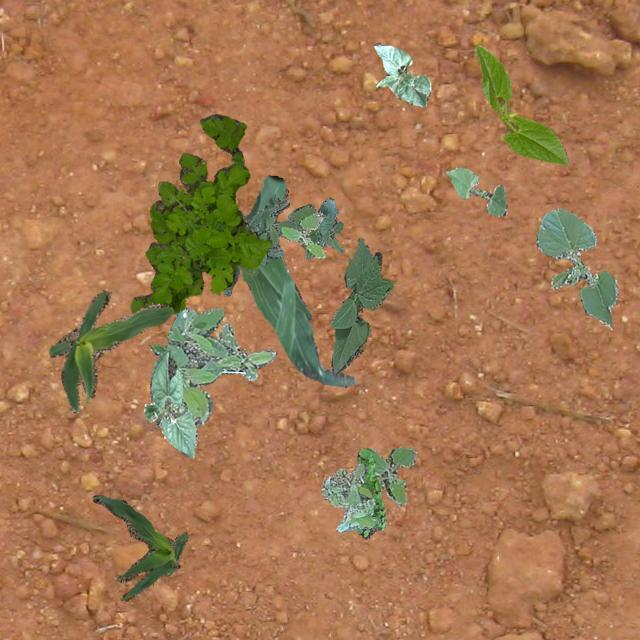crop: (241, 174, 355, 386), (48, 288, 172, 412), (473, 44, 568, 164), (92, 494, 186, 600), (536, 208, 616, 326), (330, 236, 392, 372), (142, 349, 196, 456), (372, 42, 430, 106), (286, 196, 342, 258), (446, 166, 506, 216), (170, 306, 196, 330)
weed: (130, 112, 270, 312), (148, 306, 276, 426), (222, 193, 300, 294), (320, 462, 374, 532), (365, 446, 415, 504), (356, 447, 386, 538), (280, 212, 324, 258)
